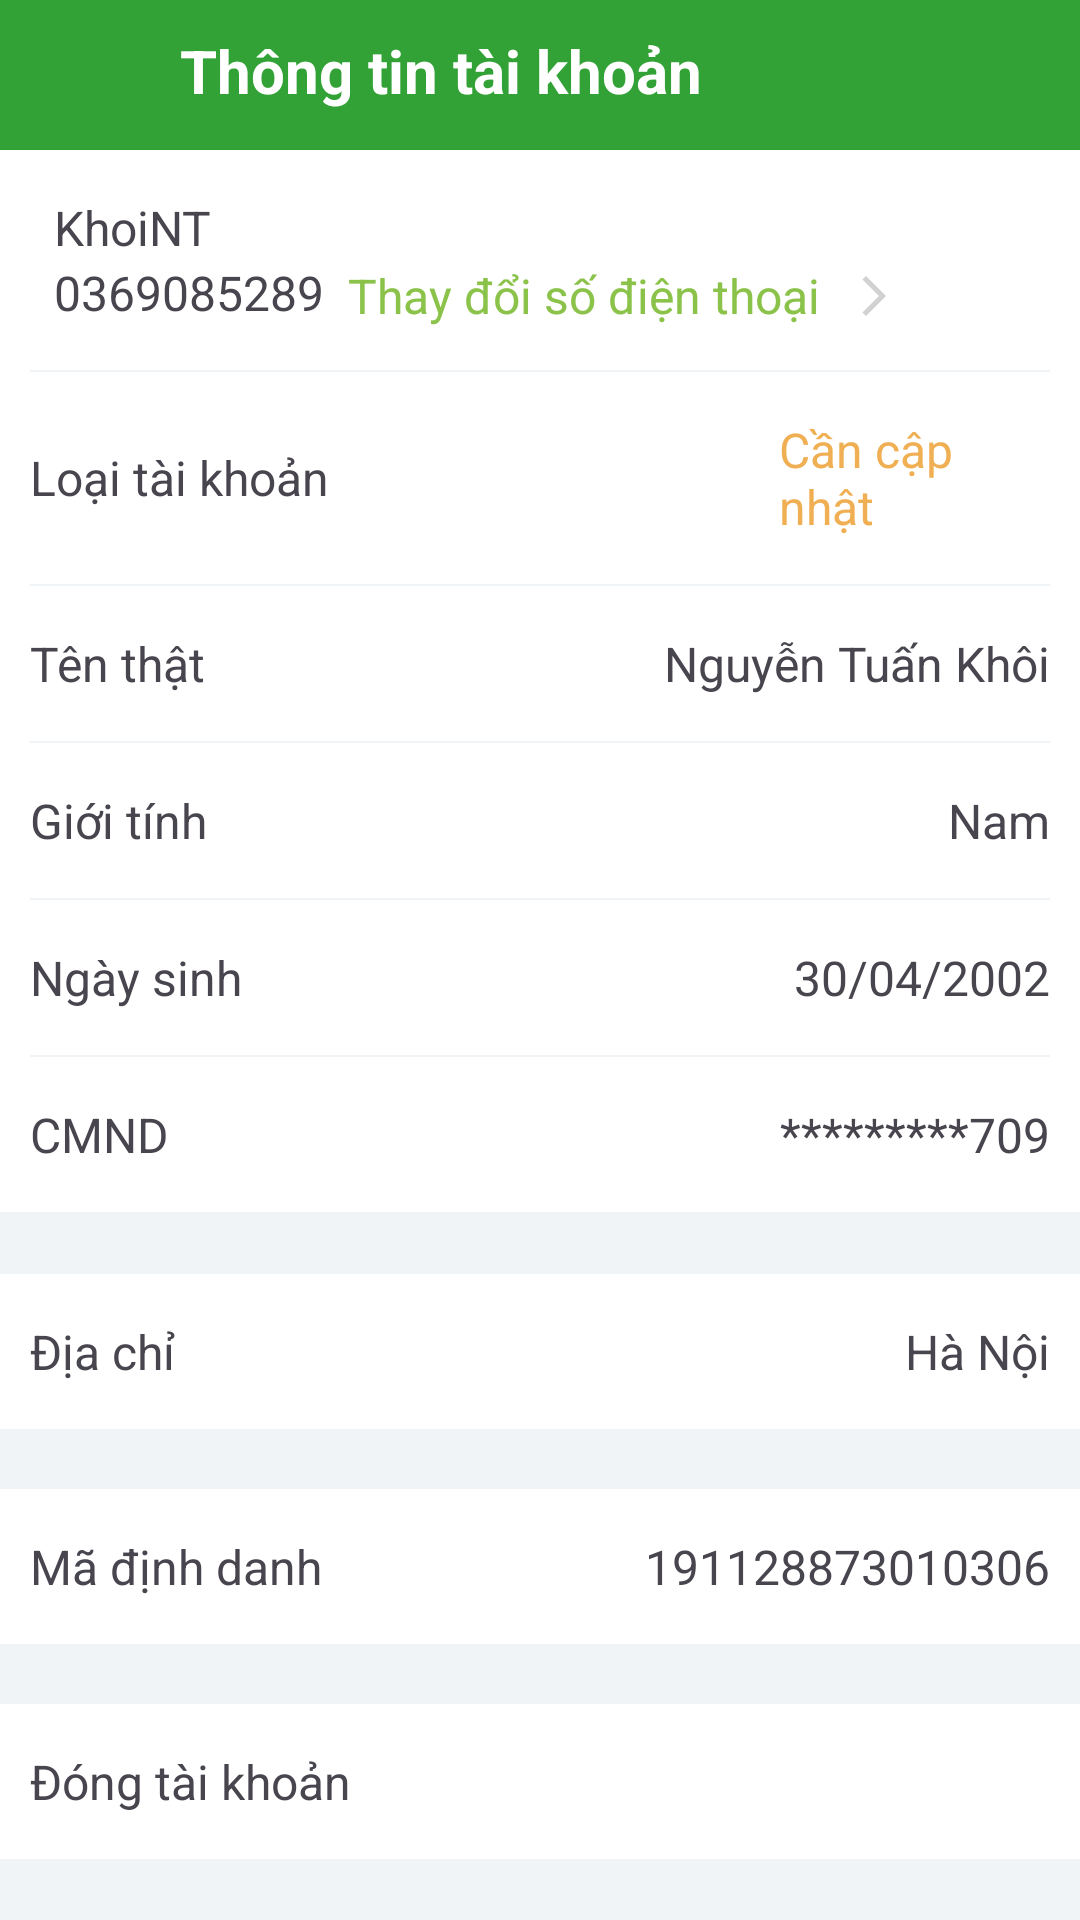

Where to tap for icons on this 1080w x 1920h app screen, as (x=x, y=y):
arrow forward: (x=874, y=296)
